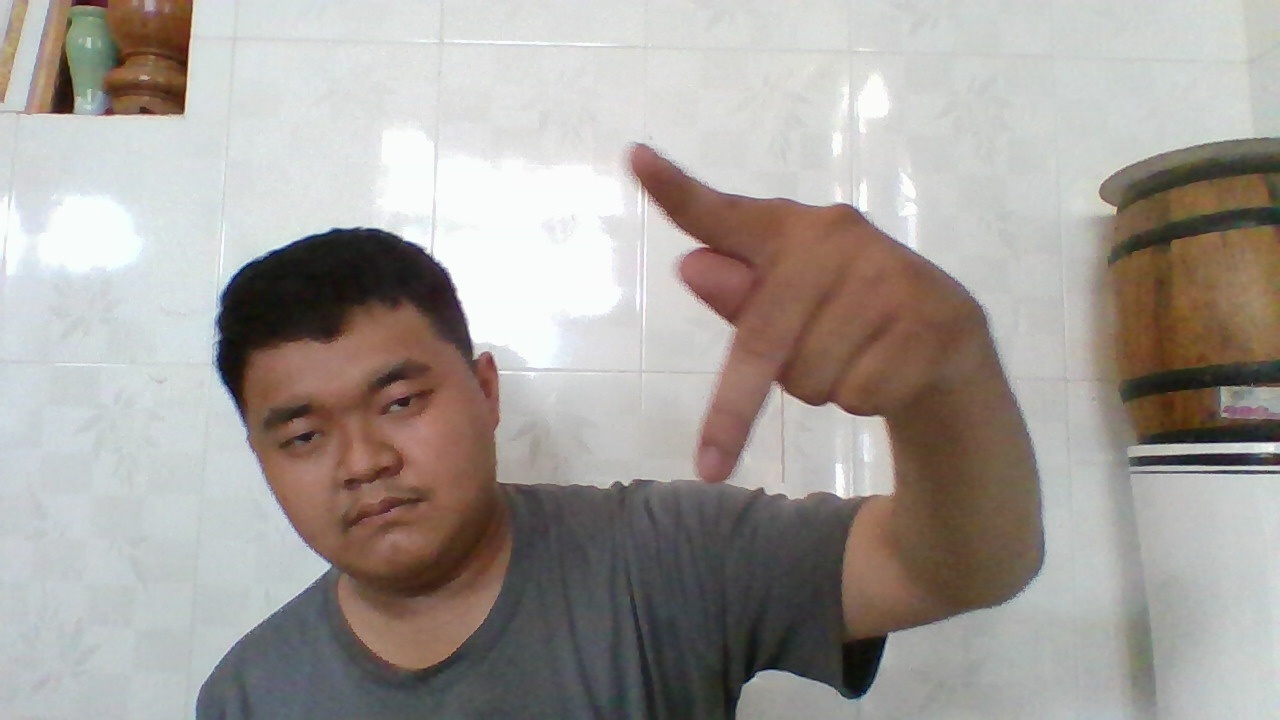P: (629, 149, 951, 481)
